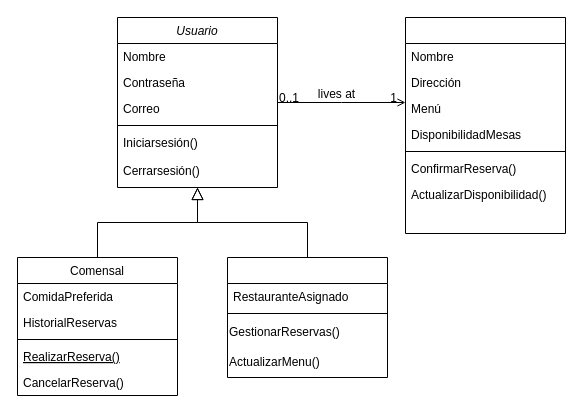
Image size: 583x416. Some labels were removed from this diagram. The shapes that lost their labels are listed below. From the top down, each one's box as (x1, y1, x2, y2) in pixels, then its label:
(404, 16, 566, 234): Restaurante
(226, 256, 388, 378): AdminRestaurante
